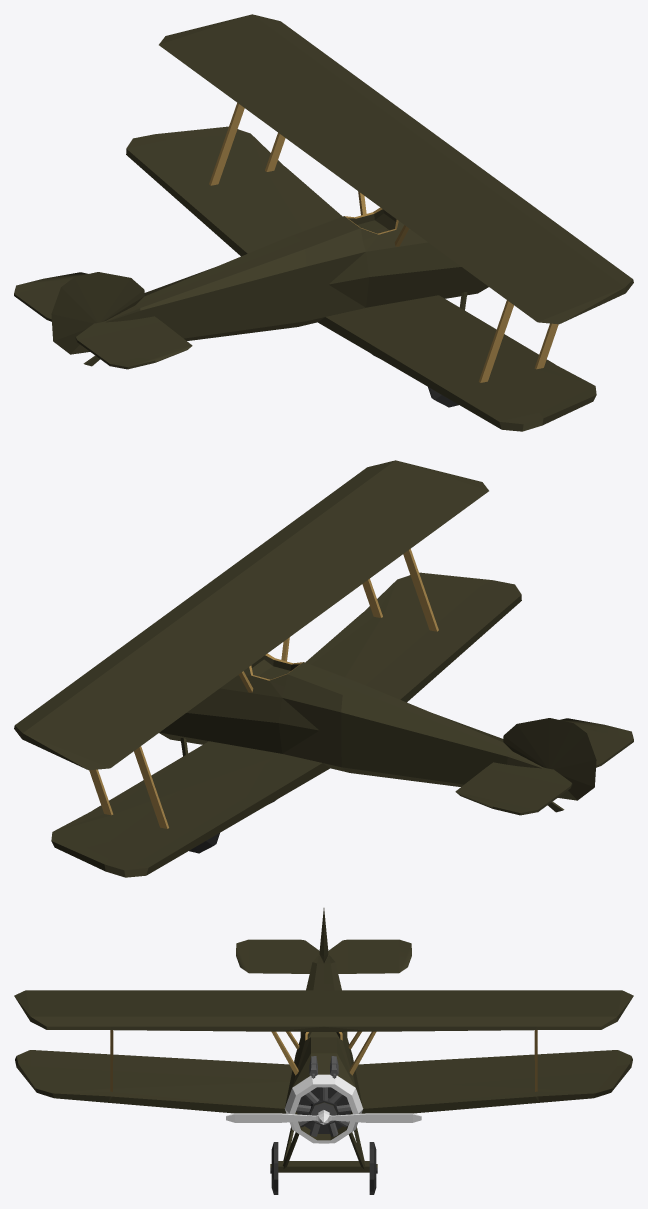
Rendered from camel.fbx.
3 views of the same model, one above another, from view 1: azimuth 30°, elevation 25°; view 2: azimuth 150°, elevation 25°; view 3: azimuth 270°, elevation 25° (orthographic). The views are drawn at different scales.
Visible parts, largest first — view 1: Body; view 2: Body; view 3: Body, Prop.
Part boxes in pixels (<box>): Body: <box>14,14,633,431</box>; Body: <box>14,460,633,877</box>; Body: <box>14,908,633,1194</box>; Prop: <box>226,1110,421,1124</box>.
Size of the model in its own units: 224 by 108 by 338.
